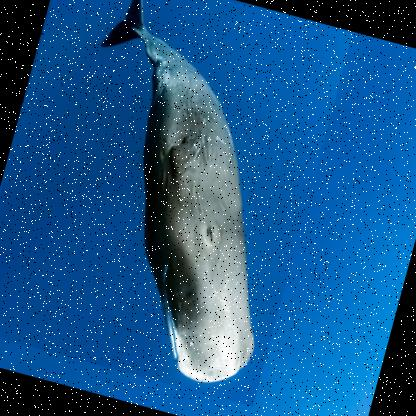sperm_whale: (0, 0, 352, 406)
